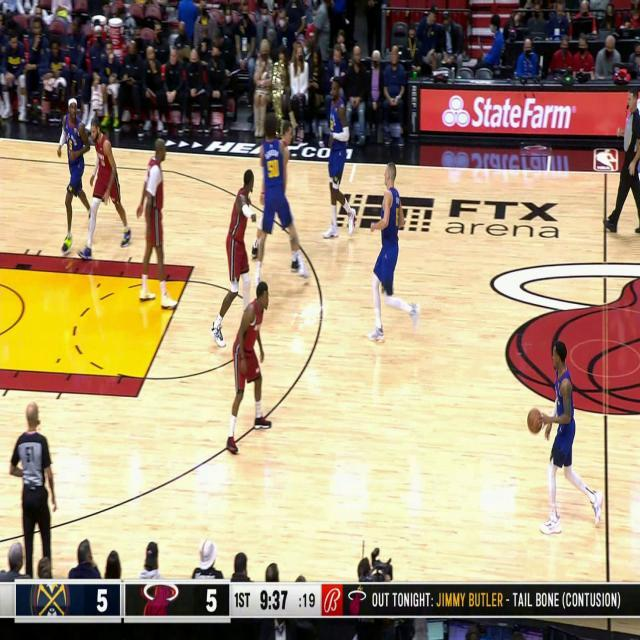rim: (526, 408, 544, 433)
